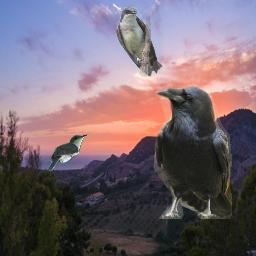Crow: (154, 85, 232, 219)
Cuckoo: (47, 134, 89, 171)
Swallow: (116, 7, 163, 77)
